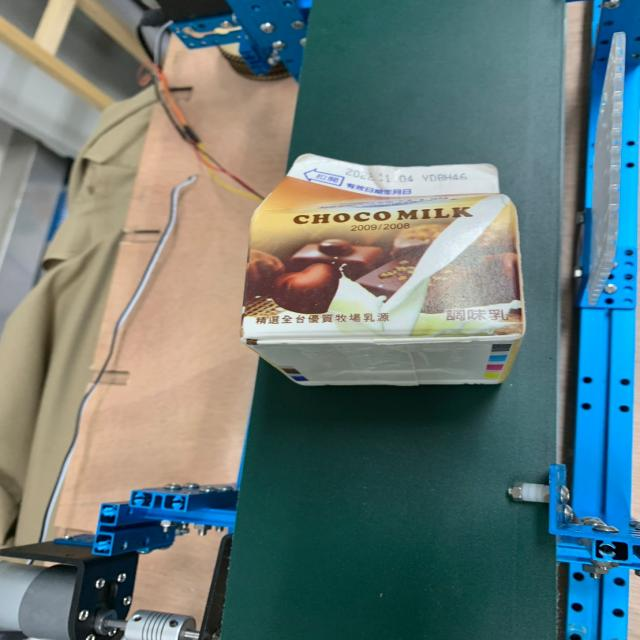non_white_jug: (221, 146, 541, 397)
